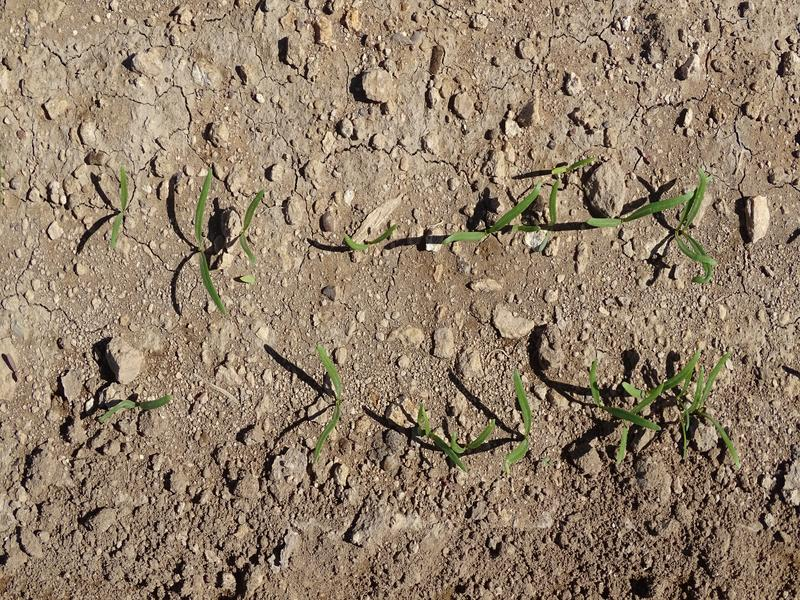Espinaca: (585, 356, 747, 463), (190, 167, 229, 313), (413, 408, 491, 471), (450, 185, 536, 242), (540, 156, 585, 241), (316, 338, 344, 457), (590, 194, 681, 230), (686, 180, 712, 282), (509, 370, 532, 464), (104, 392, 170, 418), (111, 163, 132, 241), (243, 188, 263, 256)
